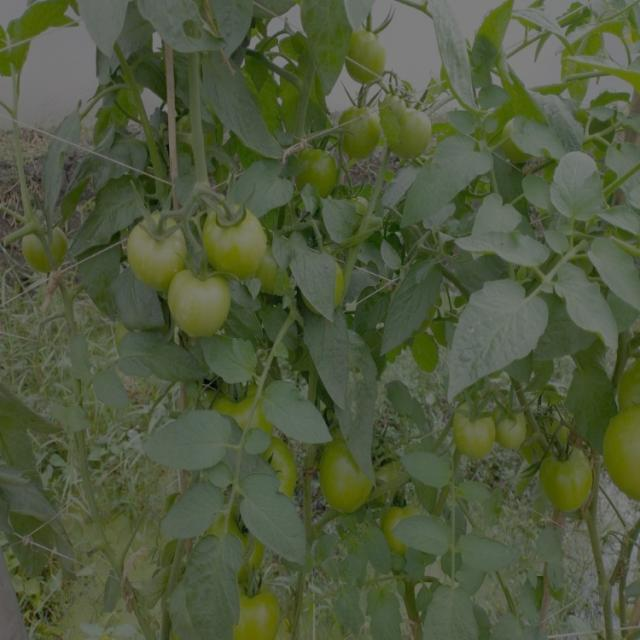tomato: (165, 260, 236, 338), (202, 191, 267, 274), (313, 433, 376, 512), (127, 208, 184, 274), (542, 443, 594, 515), (381, 87, 435, 156), (288, 133, 345, 196), (233, 572, 285, 640), (605, 411, 640, 504), (348, 15, 394, 85), (23, 212, 71, 272), (338, 89, 379, 154), (215, 380, 267, 429), (452, 404, 498, 458), (383, 488, 423, 549), (256, 434, 294, 493), (323, 257, 357, 316), (499, 403, 533, 460), (222, 511, 257, 562), (614, 354, 640, 406)
